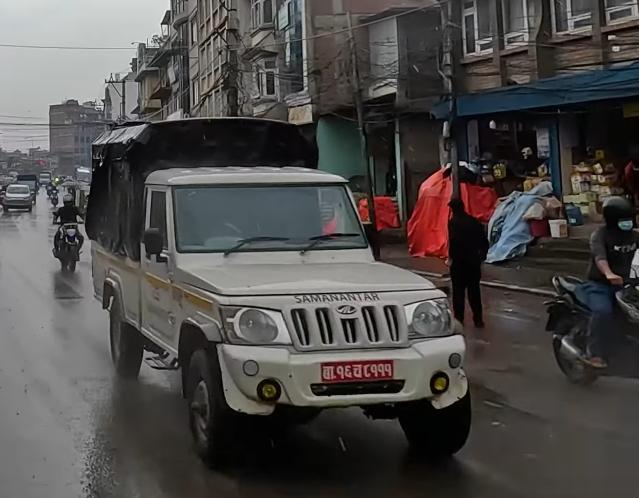bike: (530, 200, 639, 425), (50, 190, 87, 280)
taxi: (0, 169, 42, 221)
transport_vehicle: (77, 108, 495, 478)
